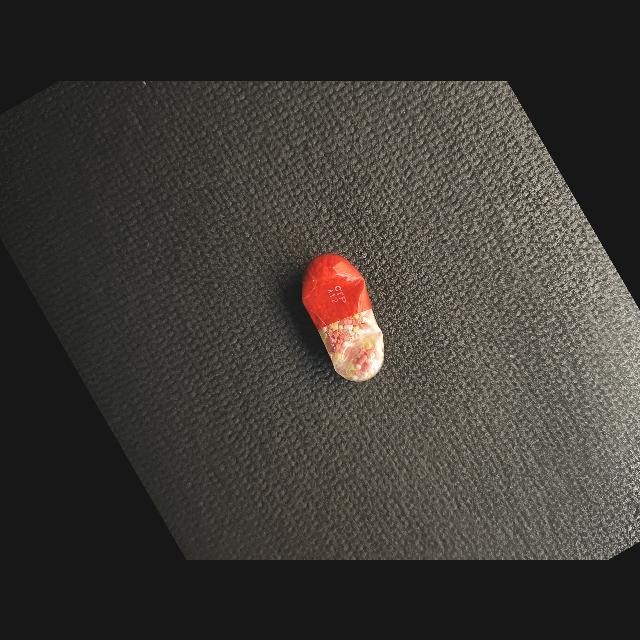Defective Capsule: (302, 253, 384, 381)
